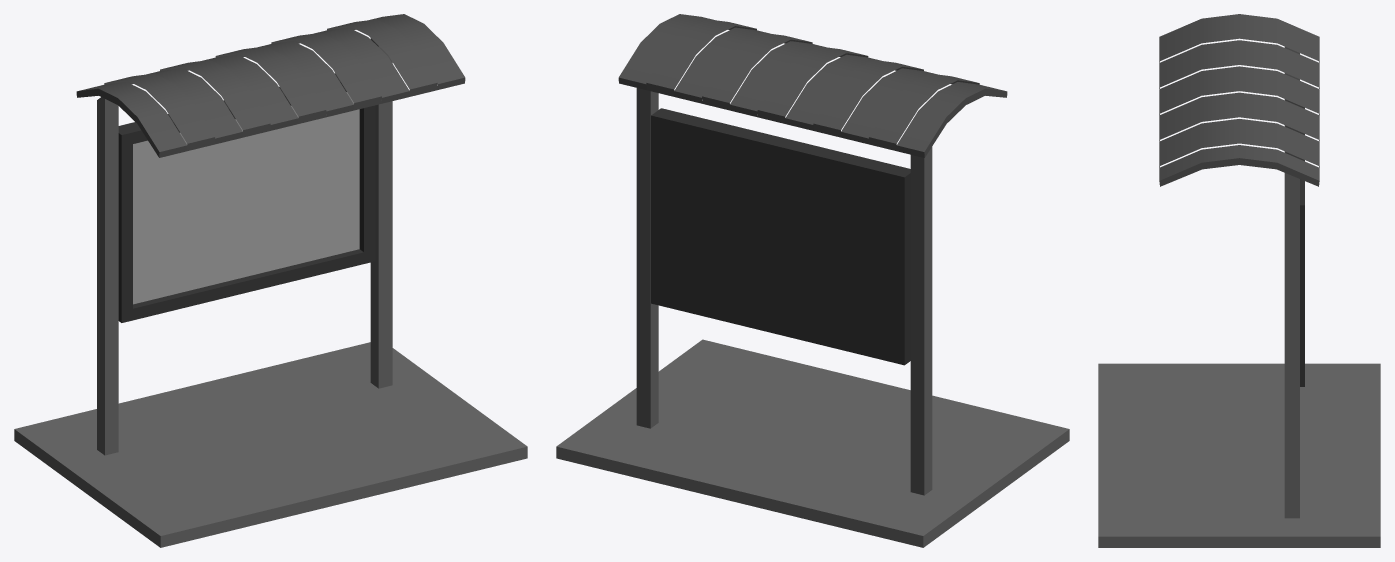
The model's file is Park_City_Kiosks.fbx.
3 views of the same model, side by side, from view 1: azimuth 30°, elevation 25°; view 2: azimuth 150°, elevation 25°; view 3: azimuth 270°, elevation 25° (orthographic). The views are drawn at different scales.
Parts seen in each view (by area): view 1: Park_City_Kiosks; view 2: Park_City_Kiosks; view 3: Park_City_Kiosks.
Boxes of the visible parts, <box> form: Park_City_Kiosks: <box>14,14,527,547</box>; Park_City_Kiosks: <box>556,14,1069,547</box>; Park_City_Kiosks: <box>1098,14,1380,547</box>.
Size of the model in its own units: 1.01 by 1.03 by 0.698.
